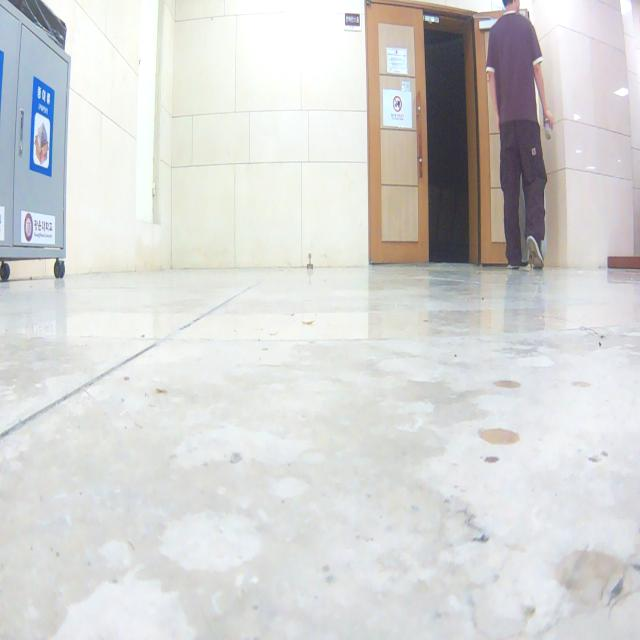target: (306, 252, 314, 270)
